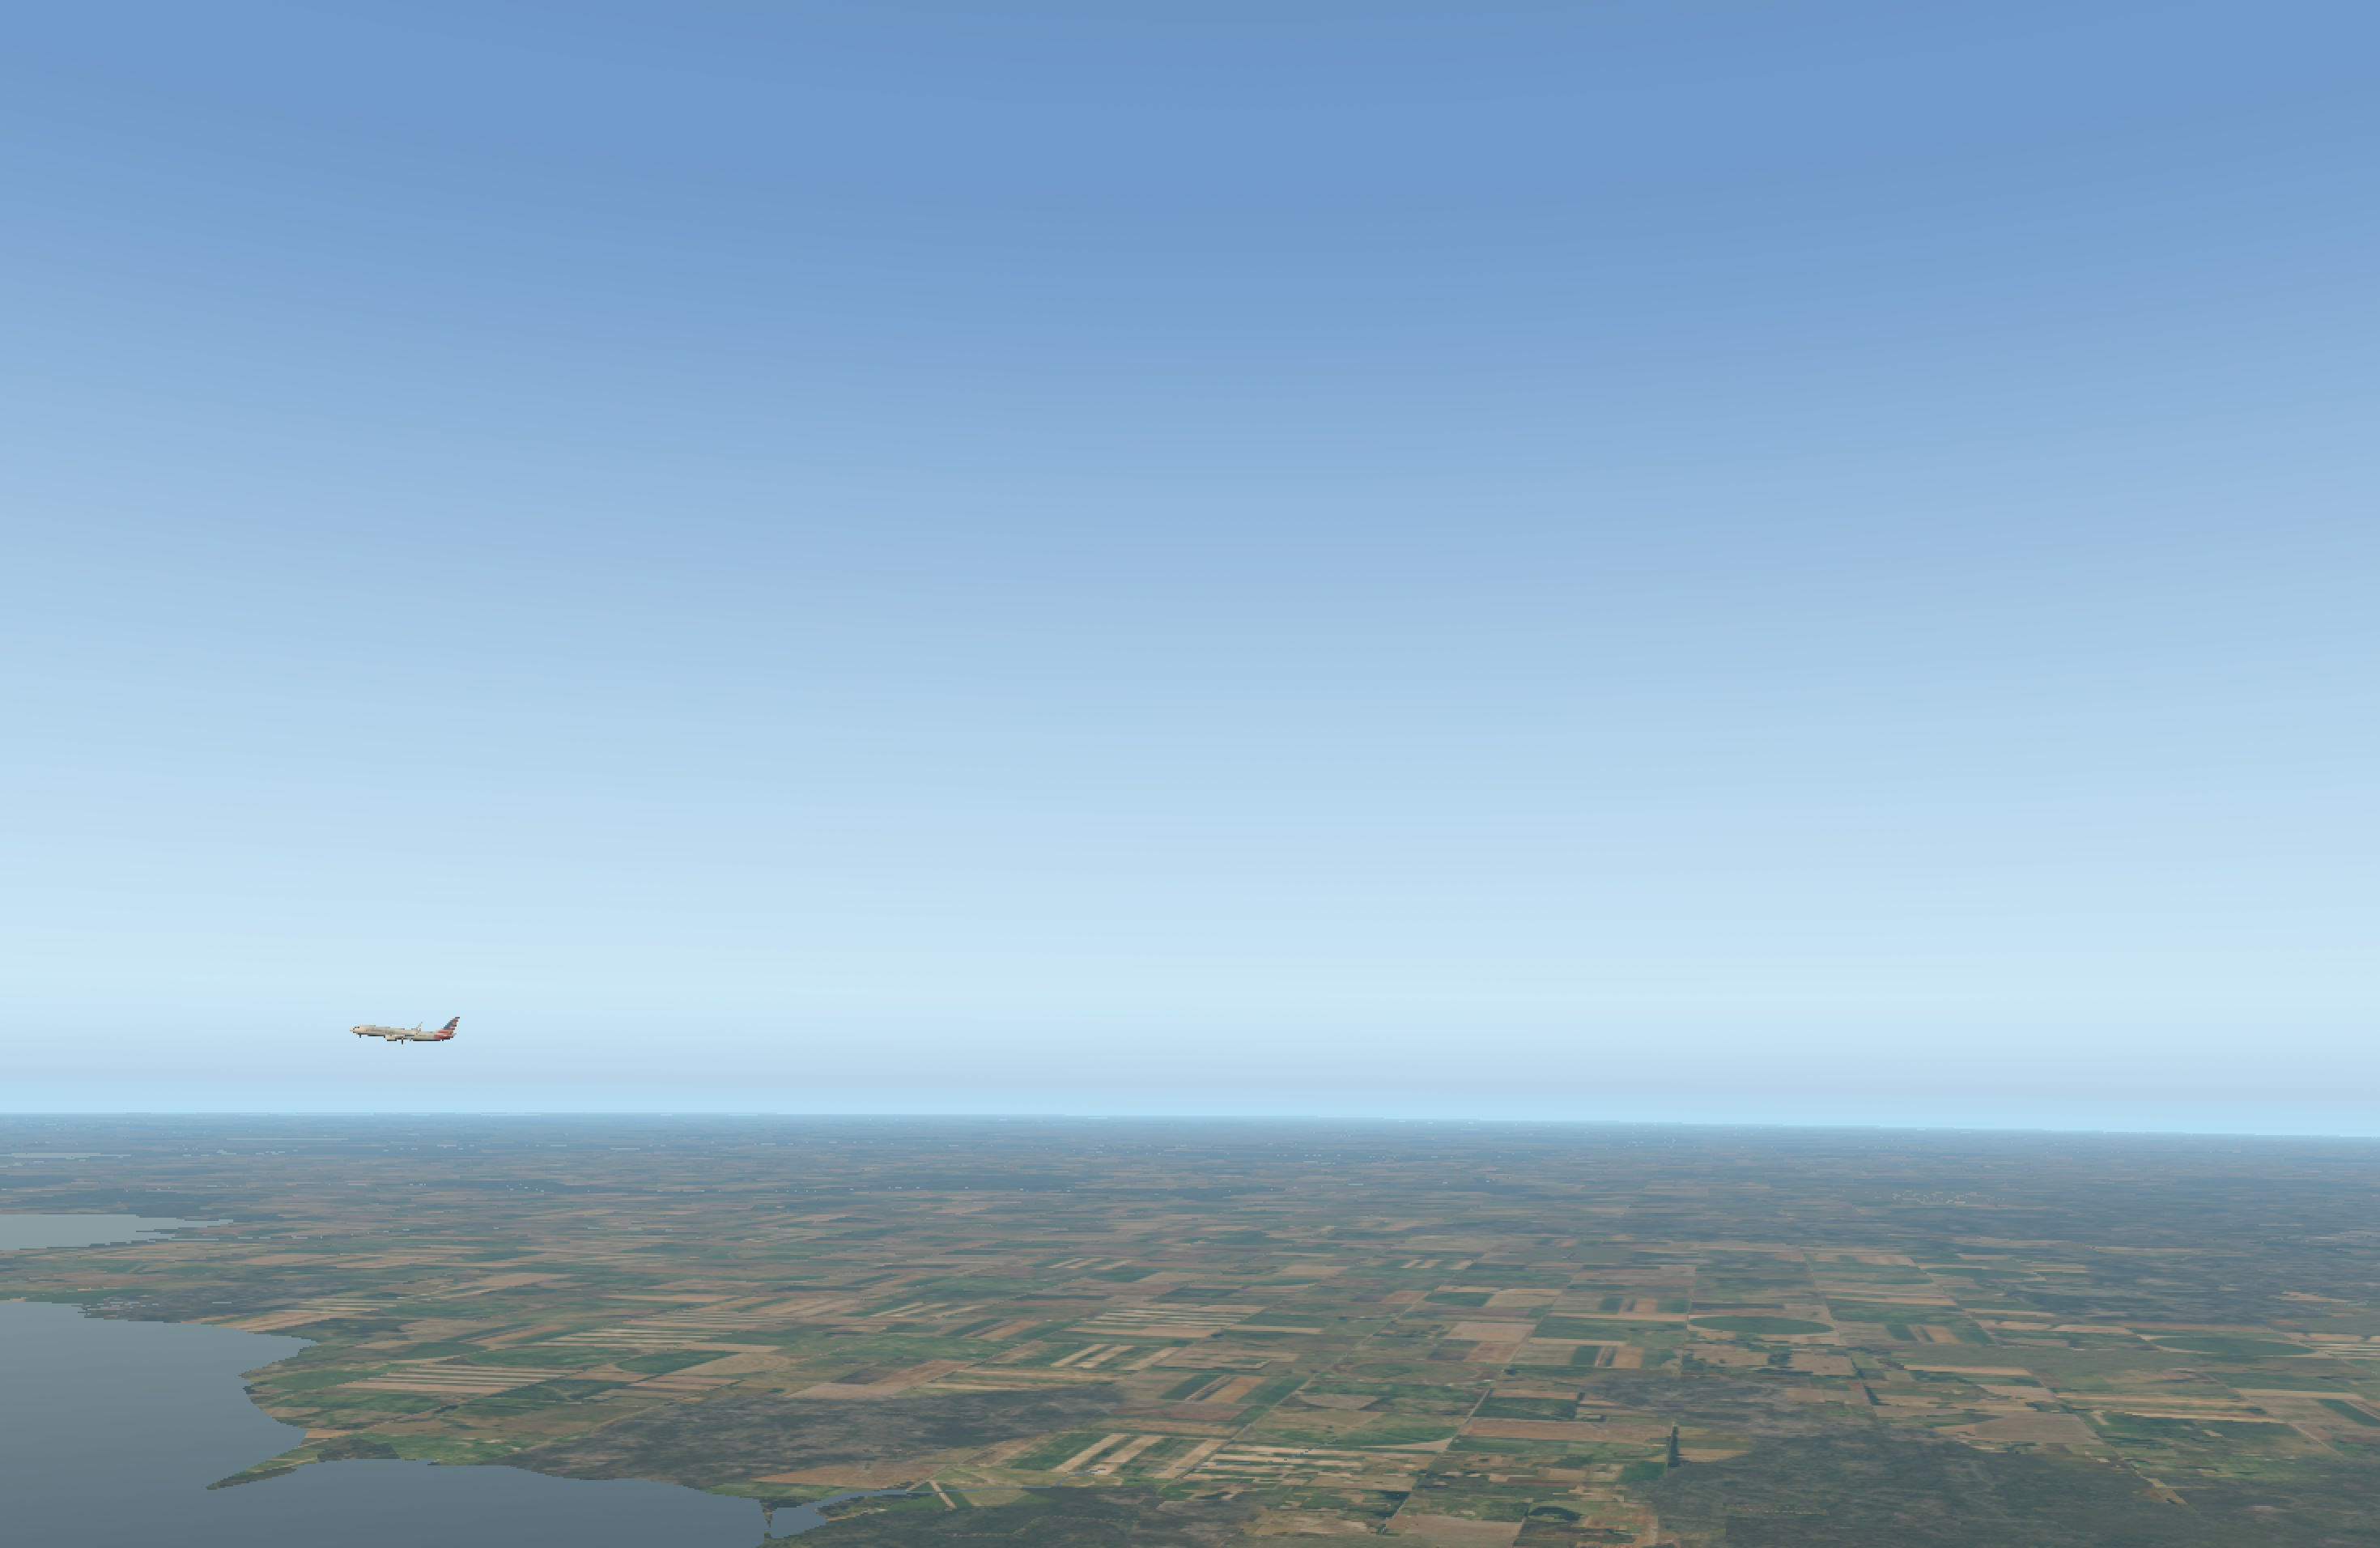aircraft: (352, 1019, 446, 1053)
